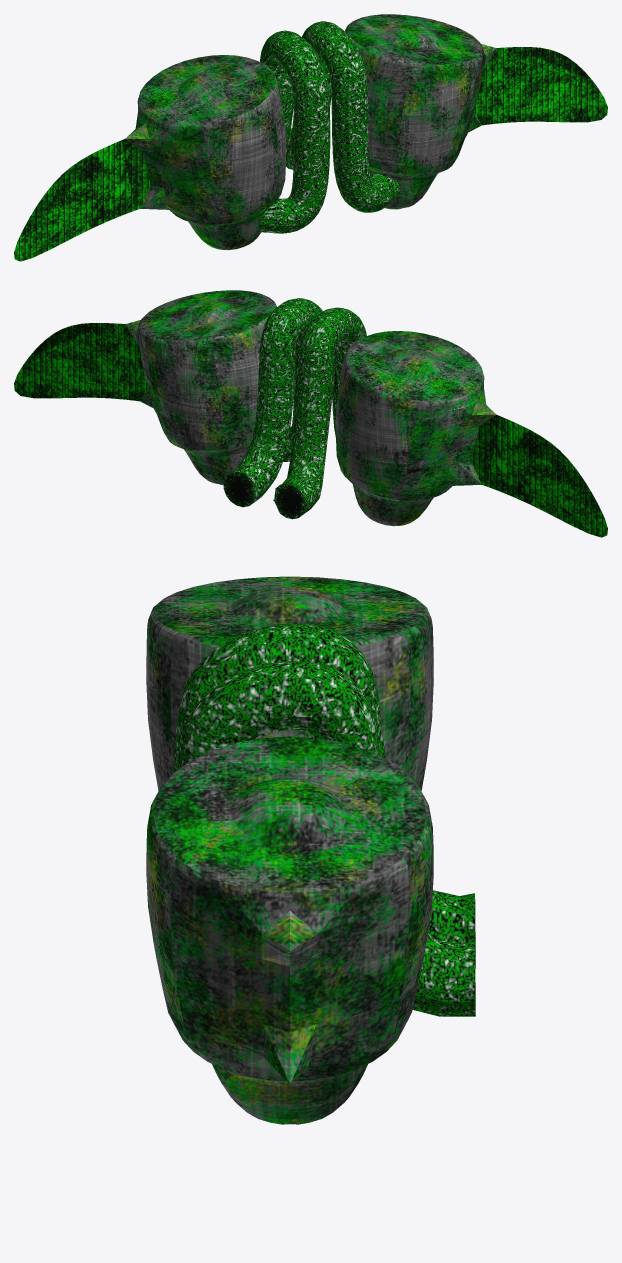
Rendered from Jetpack.FBX.
The picture shows the model from 3 angles, top to bottom: view 1: azimuth 30°, elevation 25°; view 2: azimuth 150°, elevation 25°; view 3: azimuth 270°, elevation 25°; orthographic projection. The views are drawn at different scales.
Parts seen in each view (by area): view 1: Jetpack; view 2: Jetpack; view 3: Jetpack.
Part boxes in pixels (x1,y1,x2,y2): Jetpack: (14, 14, 607, 261); Jetpack: (14, 290, 607, 537); Jetpack: (146, 576, 475, 1124).
Bounding box in the file's own units: 445 × 139 × 107.
